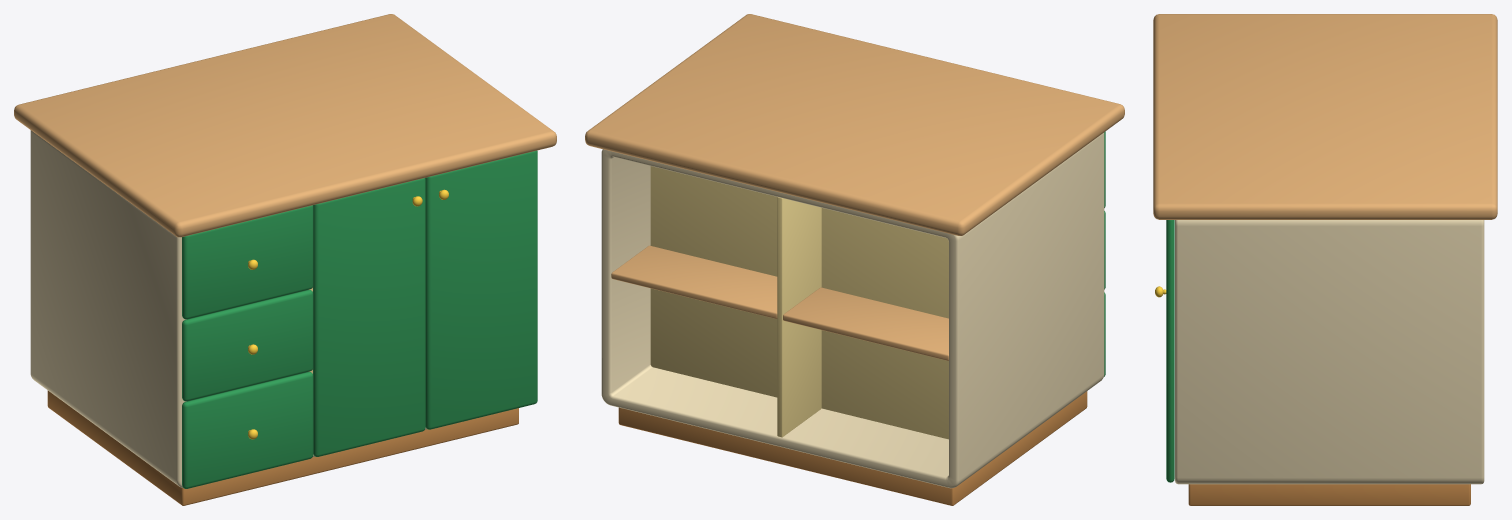
File: ilha_cozinha_creme.glb
3 views of the same model, side by side, from view 1: azimuth 30°, elevation 25°; view 2: azimuth 150°, elevation 25°; view 3: azimuth 270°, elevation 25° (orthographic). The views are drawn at different scales.
Visible parts, largest first — view 1: ilha_cozinha_creme, porta_2, porta_1, gaveta_3, gaveta_1, gaveta_2; view 2: ilha_cozinha_creme; view 3: ilha_cozinha_creme, porta_2.
Boxes of the visible parts, x1,y1,x2,y2 form: ilha_cozinha_creme: (14, 14, 556, 505); porta_2: (425, 150, 537, 429); porta_1: (313, 178, 425, 456); gaveta_3: (182, 372, 313, 488); gaveta_1: (182, 205, 313, 319); gaveta_2: (182, 290, 313, 401); ilha_cozinha_creme: (585, 14, 1124, 505); ilha_cozinha_creme: (1153, 14, 1497, 505); porta_2: (1166, 220, 1174, 482).
Size of the model in its own units: 1.2 by 0.9 by 0.9.
1 material, 1 textured.
